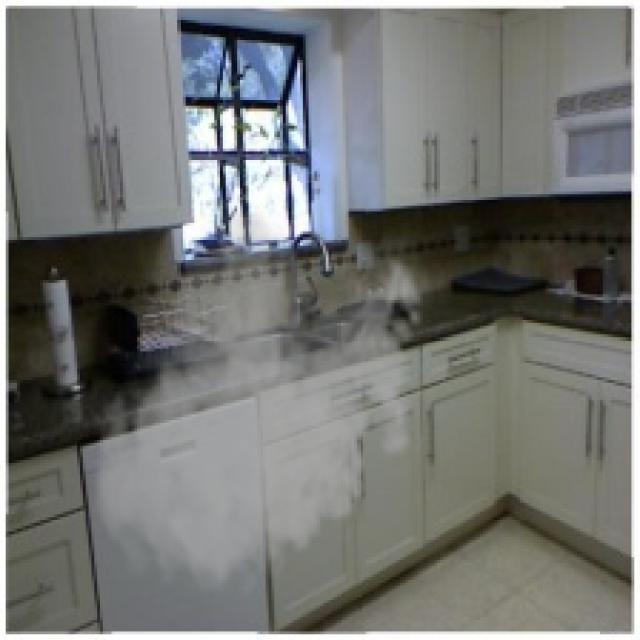Smoke: (86, 211, 434, 606)
